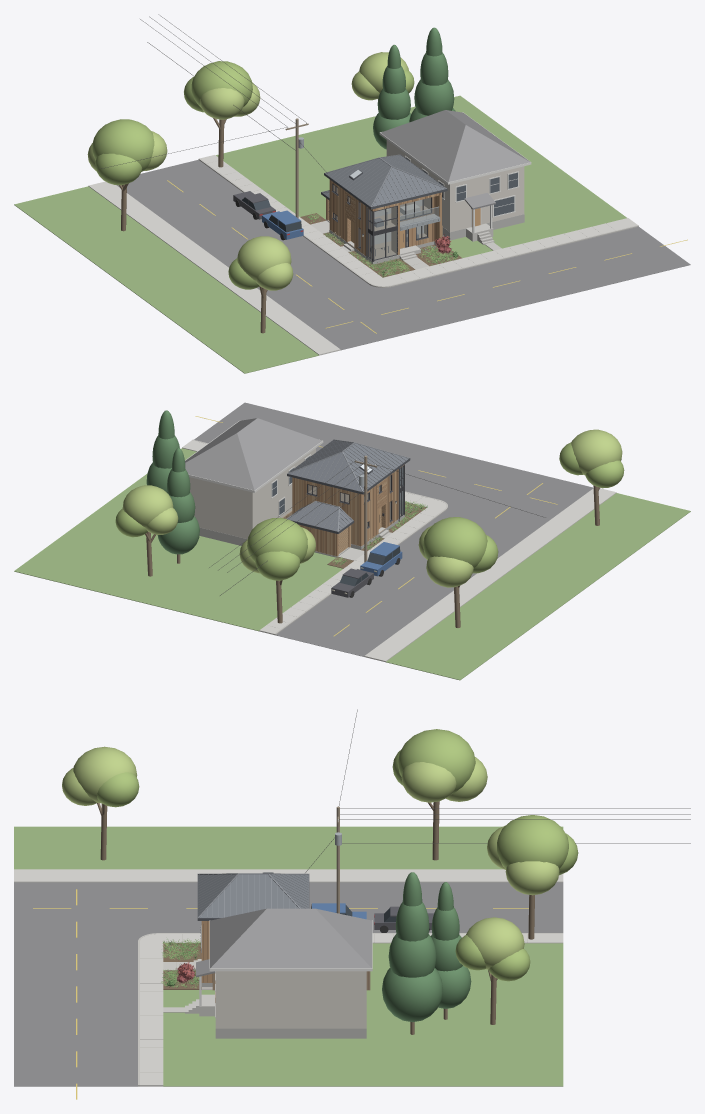
The model's file is clay-vancouver-laneway-house-clay-v002.glb.
3 views of the same model, one above another, from view 1: azimuth 30°, elevation 25°; view 2: azimuth 150°, elevation 25°; view 3: azimuth 270°, elevation 25° (orthographic). The views are drawn at different scales.
Visible parts, largest first — view 1: CLAY_LAWN, CLAY_ASPHALT, CLAY_PAVING, CLAY_SHINGLE, CLAY_TREE, CLAY_TREE2, CLAY_CONIFER, CLAY_METAL, CLAY_STUCCO, CLAY_CEDAR, CLAY_GLASS, CLAY_METAL_RIB (+14 smaller); view 2: CLAY_LAWN, CLAY_ASPHALT, CLAY_TREE, CLAY_PAVING, CLAY_SHINGLE, CLAY_TREE2, CLAY_METAL, CLAY_STUCCO, CLAY_CONIFER, CLAY_CEDAR, CLAY_METAL_RIB, CLAY_CEDAR_LIGHT (+14 smaller); view 3: CLAY_LAWN, CLAY_ASPHALT, CLAY_PAVING, CLAY_SHINGLE, CLAY_TREE, CLAY_TREE2, CLAY_STUCCO, CLAY_CONIFER, CLAY_METAL, CLAY_FOUNDATION, CLAY_METAL_RIB, CLAY_BARK (+4 smaller).
Part boxes in pixels (x1,y1,x2,y2): CLAY_LAWN: (14, 95, 626, 373); CLAY_ASPHALT: (116, 159, 690, 350); CLAY_PAVING: (88, 155, 637, 355); CLAY_SHINGLE: (381, 110, 530, 209); CLAY_TREE: (92, 61, 414, 289); CLAY_TREE2: (87, 52, 408, 290); CLAY_CONIFER: (373, 27, 455, 149); CLAY_METAL: (322, 155, 445, 206); CLAY_STUCCO: (386, 140, 524, 232); CLAY_CEDAR: (326, 179, 441, 256); CLAY_GLASS: (333, 185, 438, 259); CLAY_METAL_RIB: (321, 154, 446, 207); CLAY_LAWN: (14, 448, 690, 680); CLAY_ASPHALT: (194, 402, 593, 656); CLAY_TREE: (115, 442, 624, 580); CLAY_PAVING: (182, 440, 616, 662); CLAY_SHINGLE: (185, 418, 321, 490); CLAY_TREE2: (122, 429, 622, 587); CLAY_METAL: (288, 440, 408, 531); CLAY_STUCCO: (189, 448, 315, 538); CLAY_CONIFER: (146, 410, 199, 554); CLAY_CEDAR: (292, 464, 404, 556); CLAY_METAL_RIB: (286, 439, 409, 531); CLAY_CEDAR_LIGHT: (295, 466, 402, 555); CLAY_LAWN: (14, 826, 563, 1086); CLAY_ASPHALT: (14, 882, 563, 1086); CLAY_PAVING: (14, 869, 563, 1086); CLAY_SHINGLE: (196, 908, 372, 977); CLAY_TREE: (97, 729, 578, 981); CLAY_TREE2: (62, 746, 559, 969); CLAY_STUCCO: (215, 971, 366, 1028); CLAY_CONIFER: (382, 872, 471, 1022); CLAY_METAL: (198, 874, 308, 917); CLAY_FOUNDATION: (201, 983, 366, 1038); CLAY_METAL_RIB: (198, 873, 308, 917); CLAY_BARK: (97, 801, 534, 1034).
Bounding box in the file's own units: 50.5 × 14.04 × 53.
